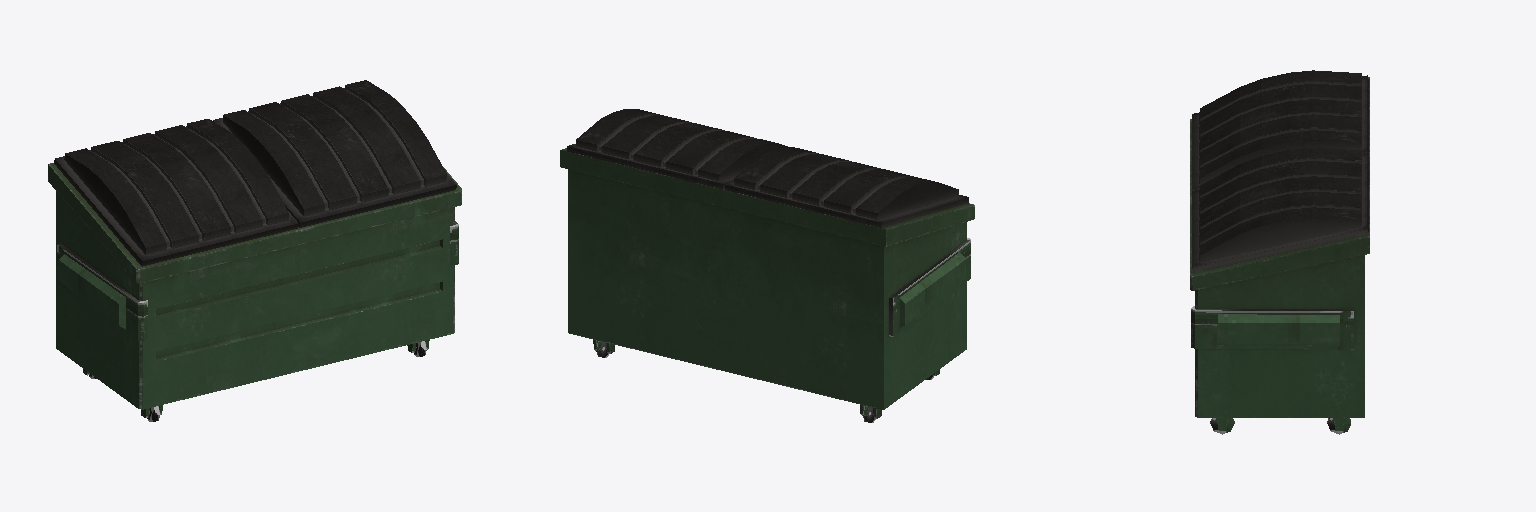
3 views of the same model, side by side, from view 1: azimuth 30°, elevation 25°; view 2: azimuth 150°, elevation 25°; view 3: azimuth 270°, elevation 25° (orthographic).
Parts seen in each view (by area): view 1: pCube1 group14, group14 pCylinder3, group14 pCylinder1, group14 pCube9, group14 pCube19, group14 pCube2, group14 pCube20; view 2: pCube1 group14, group14 pCylinder3, group14 pCylinder1, group14 pCube19, group14 pCube9, group14 pCube20, group14 pCube2; view 3: pCube1 group14, group14 pCylinder1, group14 pCylinder3, group14 pCube4, group14 pCube3, group14 pCube2, group14 pCube9.
Boxes of the visible parts, x1=… form: pCube1 group14: x1=48, y1=163, x2=461, y2=409; group14 pCylinder3: x1=64, y1=119, x2=288, y2=254; group14 pCylinder1: x1=223, y1=80, x2=446, y2=216; group14 pCube9: x1=54, y1=126, x2=298, y2=266; group14 pCube19: x1=58, y1=254, x2=125, y2=328; group14 pCube2: x1=213, y1=88, x2=456, y2=227; group14 pCube20: x1=57, y1=244, x2=147, y2=341; pCube1 group14: x1=560, y1=148, x2=974, y2=409; group14 pCylinder3: x1=734, y1=147, x2=958, y2=219; group14 pCylinder1: x1=576, y1=109, x2=787, y2=181; group14 pCube19: x1=900, y1=252, x2=965, y2=327; group14 pCube9: x1=725, y1=182, x2=968, y2=227; group14 pCube20: x1=889, y1=238, x2=970, y2=336; group14 pCube2: x1=567, y1=144, x2=734, y2=188; pCube1 group14: x1=1190, y1=77, x2=1369, y2=417; group14 pCylinder1: x1=1199, y1=148, x2=1361, y2=262; group14 pCylinder3: x1=1199, y1=70, x2=1361, y2=185; group14 pCube4: x1=1218, y1=314, x2=1339, y2=345; group14 pCube3: x1=1191, y1=306, x2=1353, y2=349; group14 pCube2: x1=1192, y1=152, x2=1368, y2=272; group14 pCube9: x1=1192, y1=75, x2=1368, y2=190.
Size of the model in its own units: 21.56 by 13.79 by 9.98.
Materials: 1 (1 with a texture image).